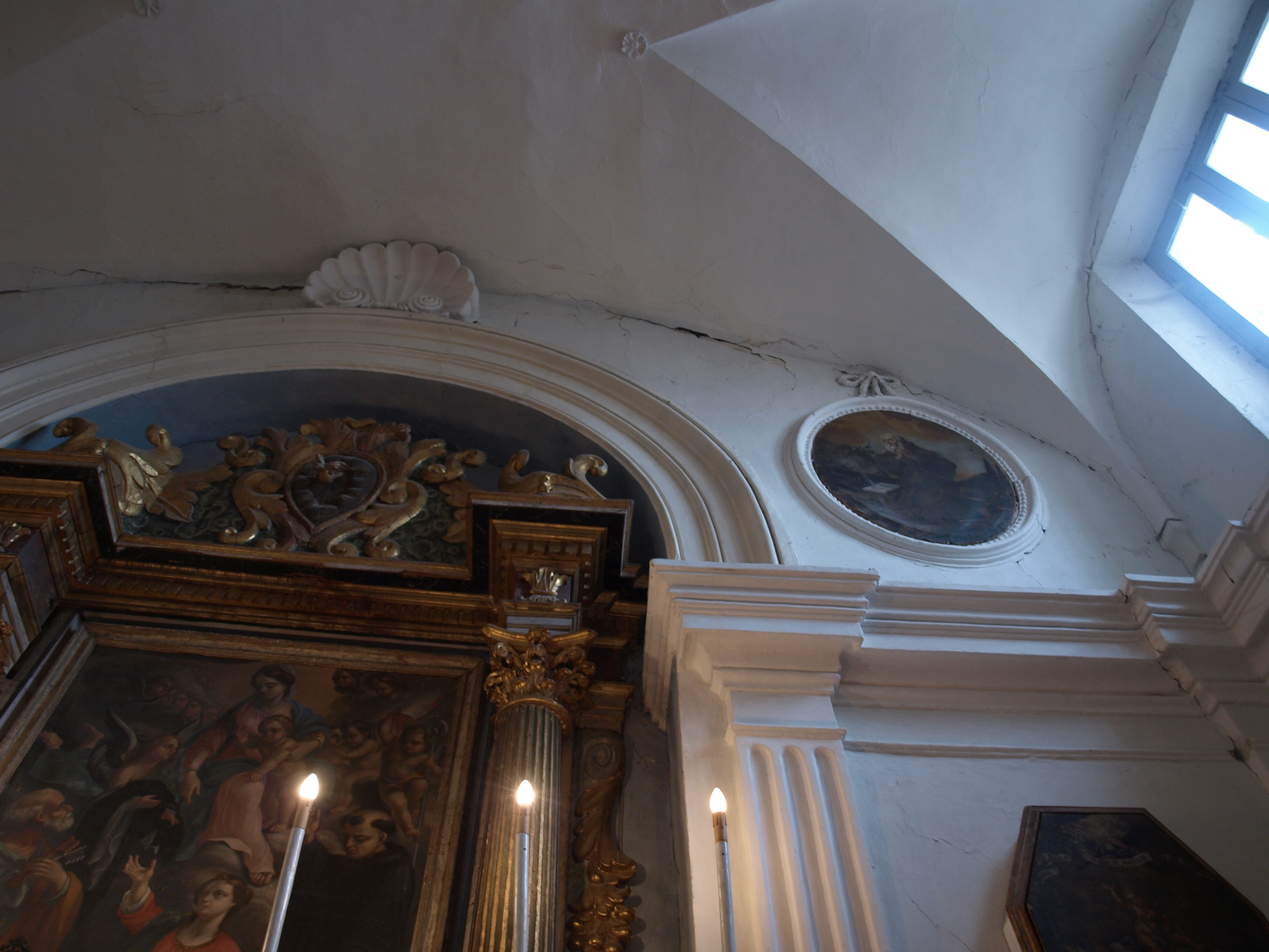Crack: (4, 209, 1142, 559), (839, 769, 1032, 948)
